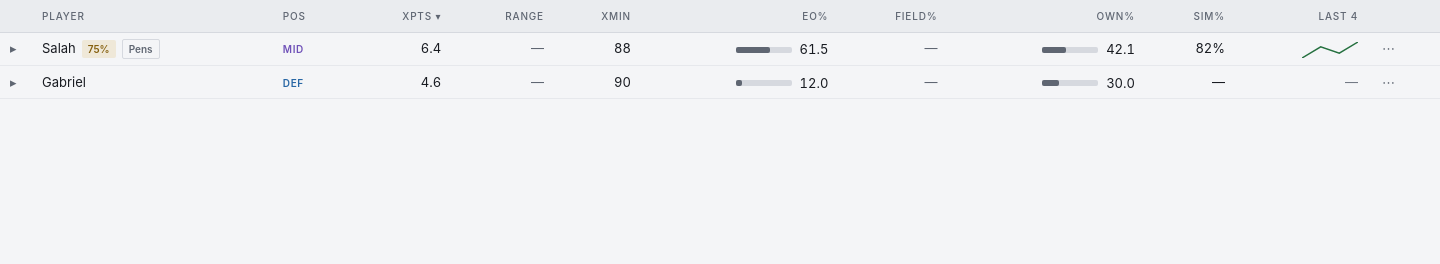
Scenario: SquadTable › expands a row into its EP component breakdown
This screenshot has width=1440, height=264.
What coordinates should you click on to do the following:
click the button named "expand Salah"
I would click on:
 (13, 49)
Its box is x1=10 y1=39 x2=16 y2=58.
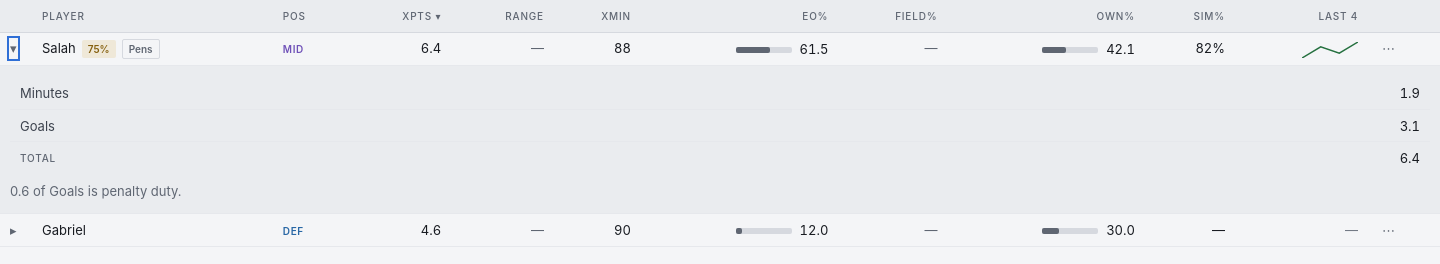
expect the text "Minutes" is shown: met, box x1=10 y1=78 x2=905 y2=110
expect the text "3.1" is shown: met, box x1=905 y1=110 x2=1430 y2=142
expect the text "0.6 of Goals is penalty duty." is shown: met, box x1=10 y1=183 x2=182 y2=199
